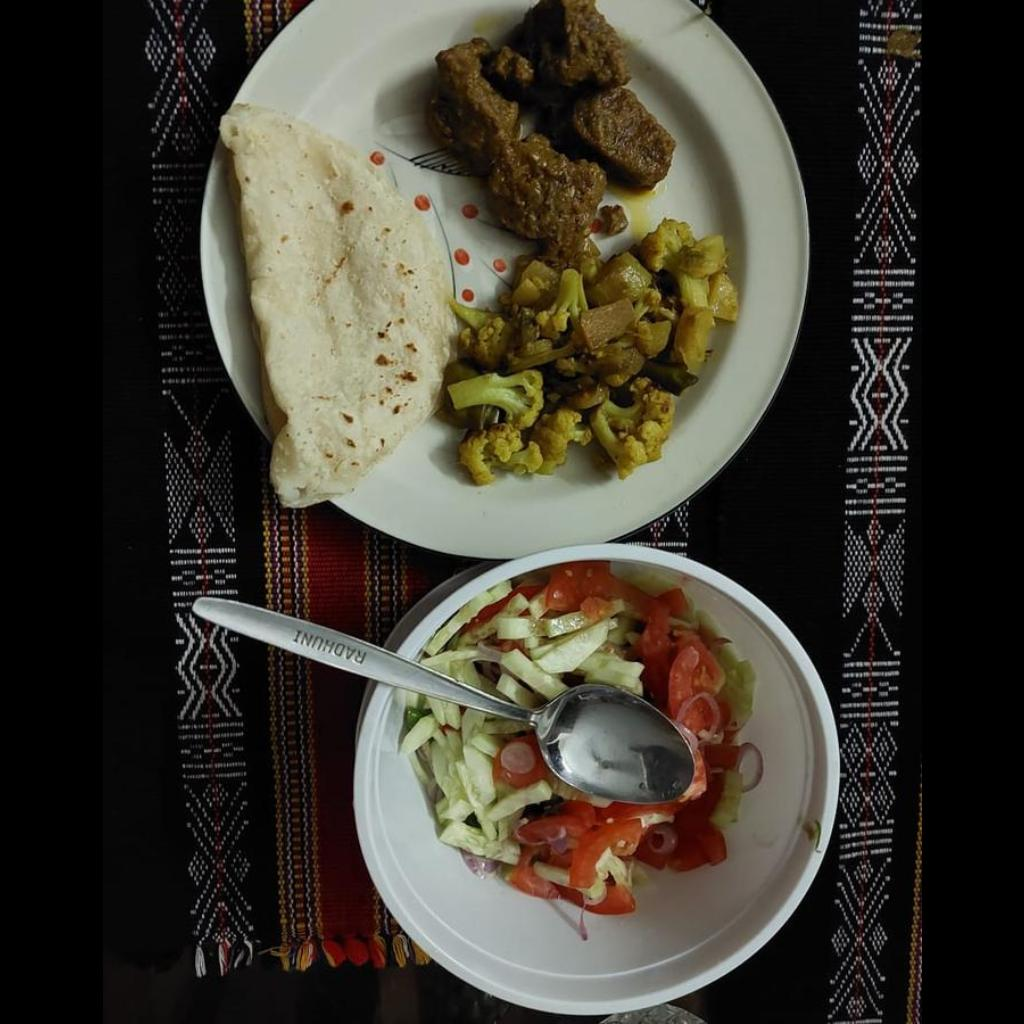beef: (430, 2, 677, 247)
ruti: (215, 104, 446, 507)
salad: (408, 567, 747, 919)
vaji: (447, 225, 742, 489)
